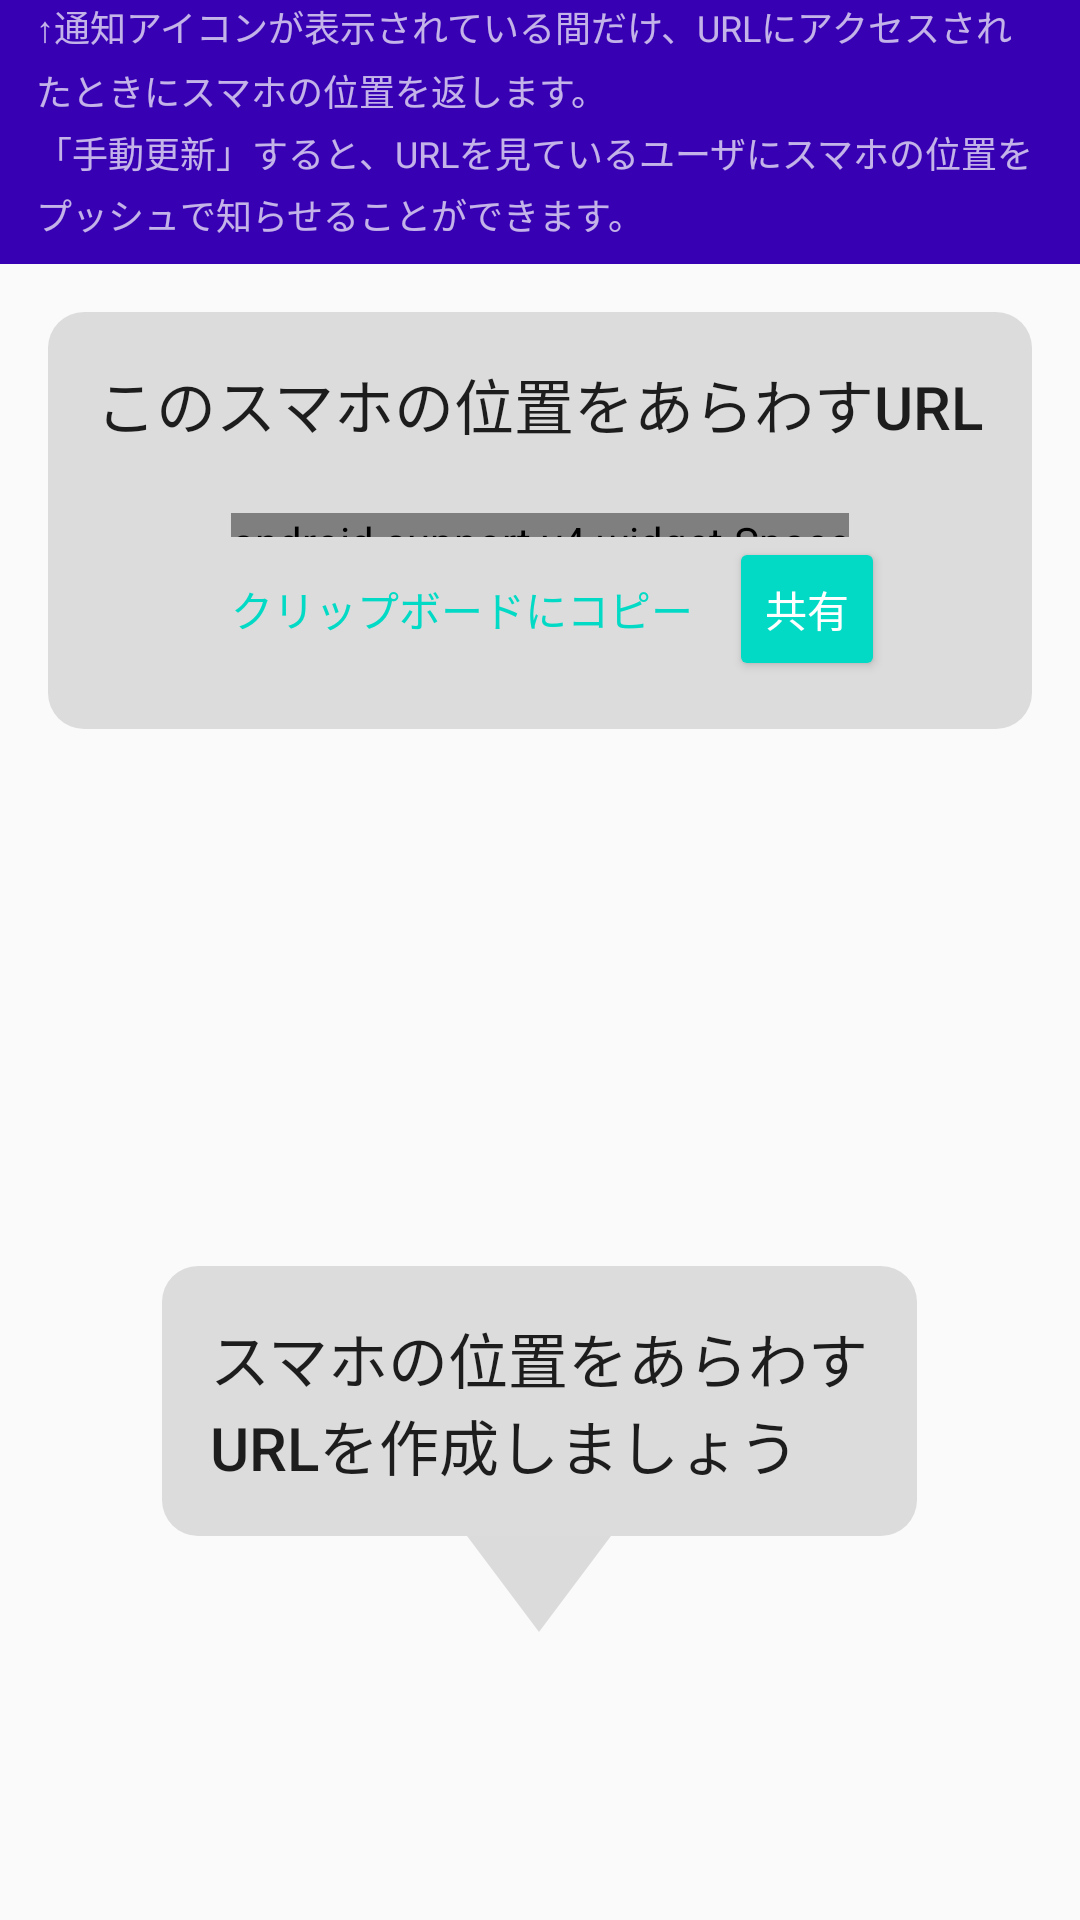

Screen size 1080*1920. Icon name, then its center in pixels as point (x, y):
tooltip down: point (539, 1583)
